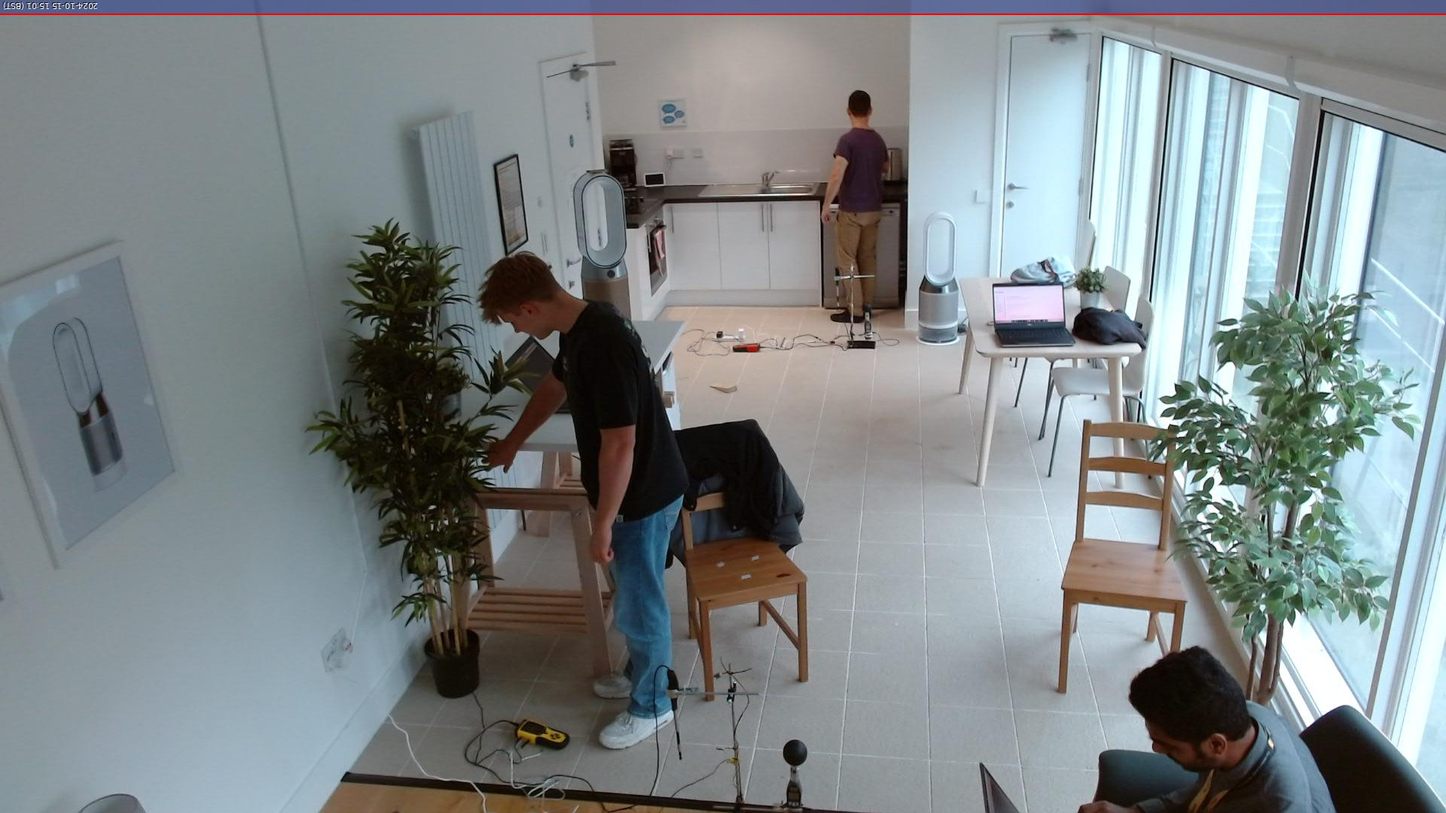long sleeve shirt: (1133, 693, 1336, 813)
short sleeve shirt: (546, 300, 692, 519), (832, 126, 891, 212)
trousers: (605, 498, 690, 718), (831, 205, 884, 315)
